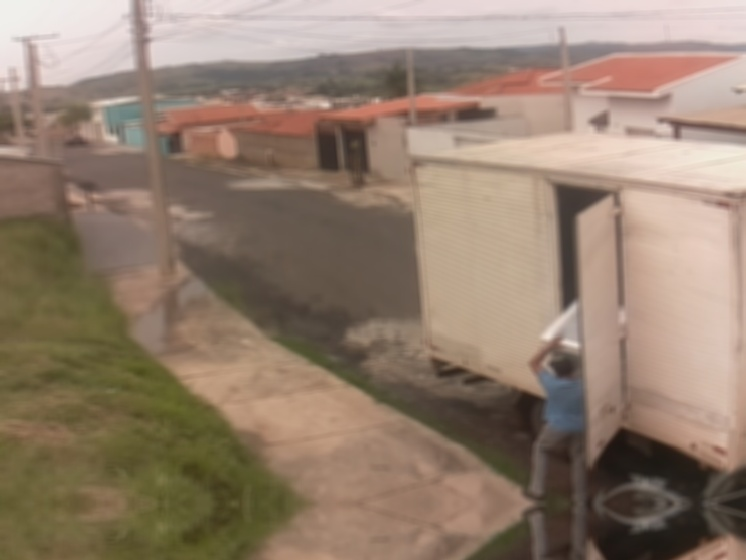person: (522, 334, 590, 560)
